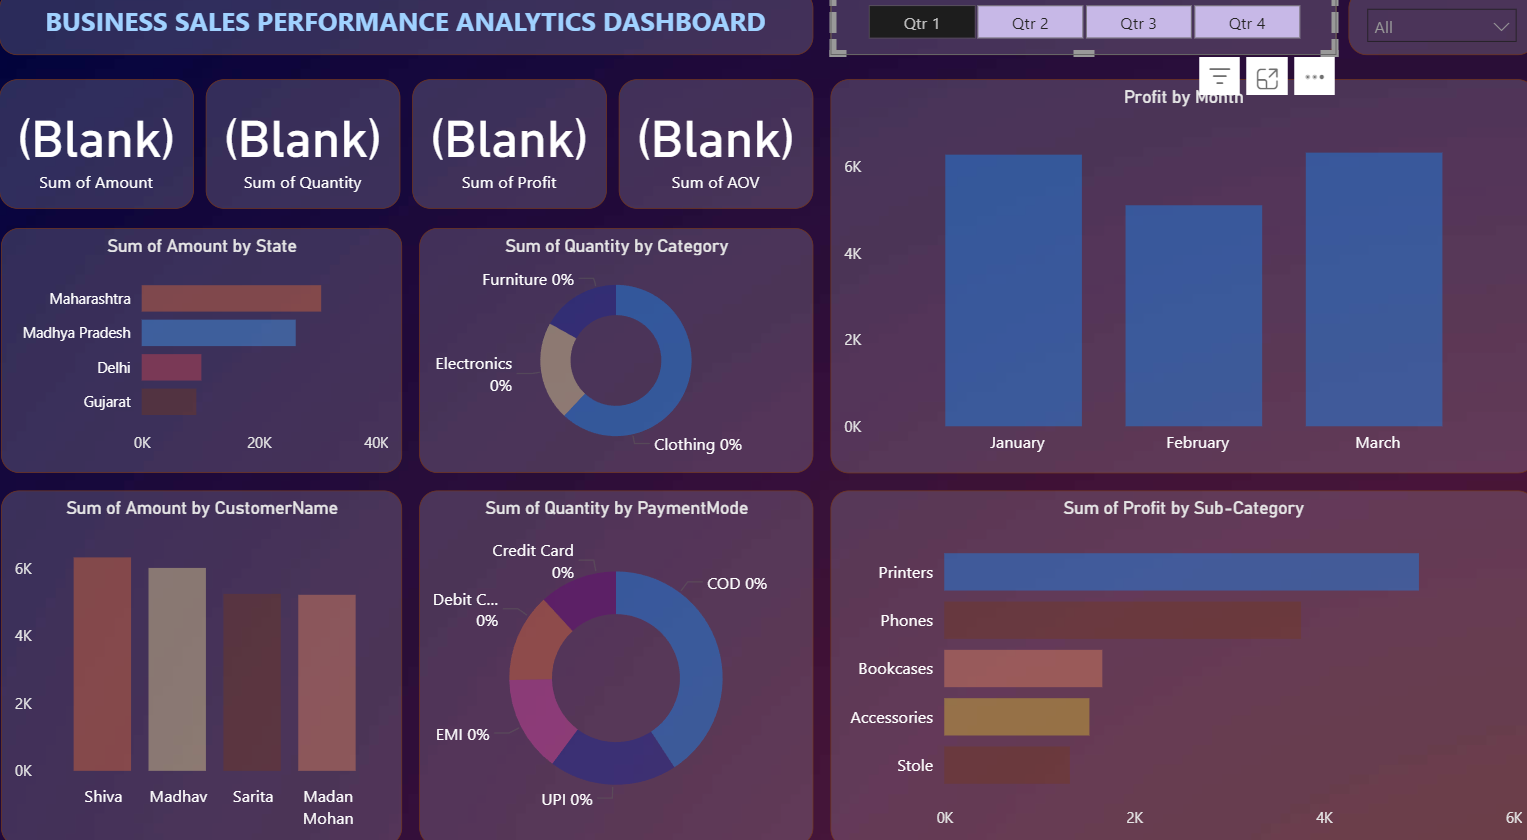

What the dashboard file says about the page in this screenshot:
{"tool":"powerbi","page":{"name":"Page 1","canvas":[1280,720],"ordinal":0},"visuals":[{"type":"textbox","box":[10,0,664.3,52.9],"z":0},{"type":"columnChart","title":"Profit by Month","fields":{"Y":["Sum(Details.Profit)"],"Category":["Orders.Order Date.Variation.Date Hierarchy.Month"]},"box":[688.6,72.9,575.7,321.4],"z":1000},{"type":"barChart","fields":{"Category":["Details.Sub-Category"],"Y":["Sum(Details.Profit)"]},"box":[688.6,408.6,575.7,291.4],"z":2000},{"type":"donutChart","fields":{"Category":["Details.Category"],"Y":["Sum(Details.Quantity)"]},"box":[352.9,194.3,321.4,200],"z":3000},{"type":"donutChart","fields":{"Y":["Sum(Details.Quantity)"],"Category":["Details.PaymentMode"]},"box":[352.9,408.6,321.4,290],"z":4000},{"type":"card","fields":{"Values":["Sum(Details.Amount)"]},"box":[10,72.9,158.6,105.7],"z":5000},{"type":"card","fields":{"Values":["Sum(Details.Quantity)"]},"box":[178.6,72.9,158.6,105.7],"z":6000},{"type":"card","fields":{"Values":["Sum(Details.Profit)"]},"box":[347.1,72.9,158.6,105.7],"z":7000},{"type":"card","fields":{"Values":["Sum(Details.AOV)"]},"box":[515.7,72.9,158.6,105.7],"z":8000},{"type":"barChart","fields":{"Category":["Orders.State"],"Y":["Sum(Details.Amount)"]},"box":[11.4,194.3,327.1,200],"z":9000},{"type":"columnChart","fields":{"Category":["Orders.CustomerName"],"Y":["Sum(Details.Amount)"]},"box":[11.4,408.6,327.1,290],"z":10000},{"type":"slicer","fields":{"Values":["Orders.Order Date.Variation.Date Hierarchy.Quarter"]},"box":[688.6,0,412.9,52.9],"z":11000},{"type":"slicer","fields":{"Values":["Orders.State"]},"box":[1111.4,0,152.9,52.9],"z":12000}]}

Visuals, with their boxes in screenshot pixels (x1, y1, x2, y2), scaled from the page's 1280x720 canvas onto the 1527x840 screenshot:
textbox: box(12, 0, 804, 62)
"Profit by Month" columnChart: box(821, 85, 1508, 460)
barChart - Details.Sub-Category x Sum(Details.Profit): box(821, 477, 1508, 817)
donutChart - Details.Category x Sum(Details.Quantity): box(421, 227, 804, 460)
donutChart - Sum(Details.Quantity) x Details.PaymentMode: box(421, 477, 804, 815)
card - Sum(Details.Amount): box(12, 85, 201, 208)
card - Sum(Details.Quantity): box(213, 85, 402, 208)
card - Sum(Details.Profit): box(414, 85, 603, 208)
card - Sum(Details.AOV): box(615, 85, 804, 208)
barChart - Orders.State x Sum(Details.Amount): box(14, 227, 404, 460)
columnChart - Orders.CustomerName x Sum(Details.Amount): box(14, 477, 404, 815)
slicer - Orders.Order Date.Variation.Date Hierarchy.Quarter: box(821, 0, 1314, 62)
slicer - Orders.State: box(1326, 0, 1508, 62)
